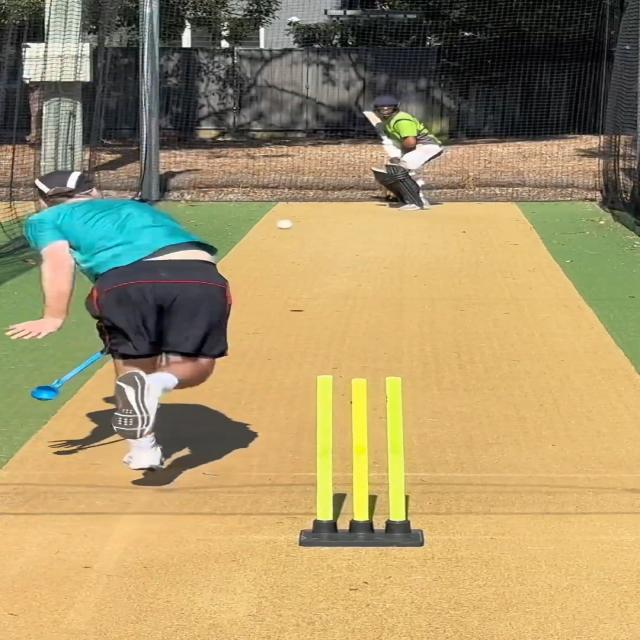ball: (274, 218, 296, 231)
stump: (298, 374, 424, 548)
